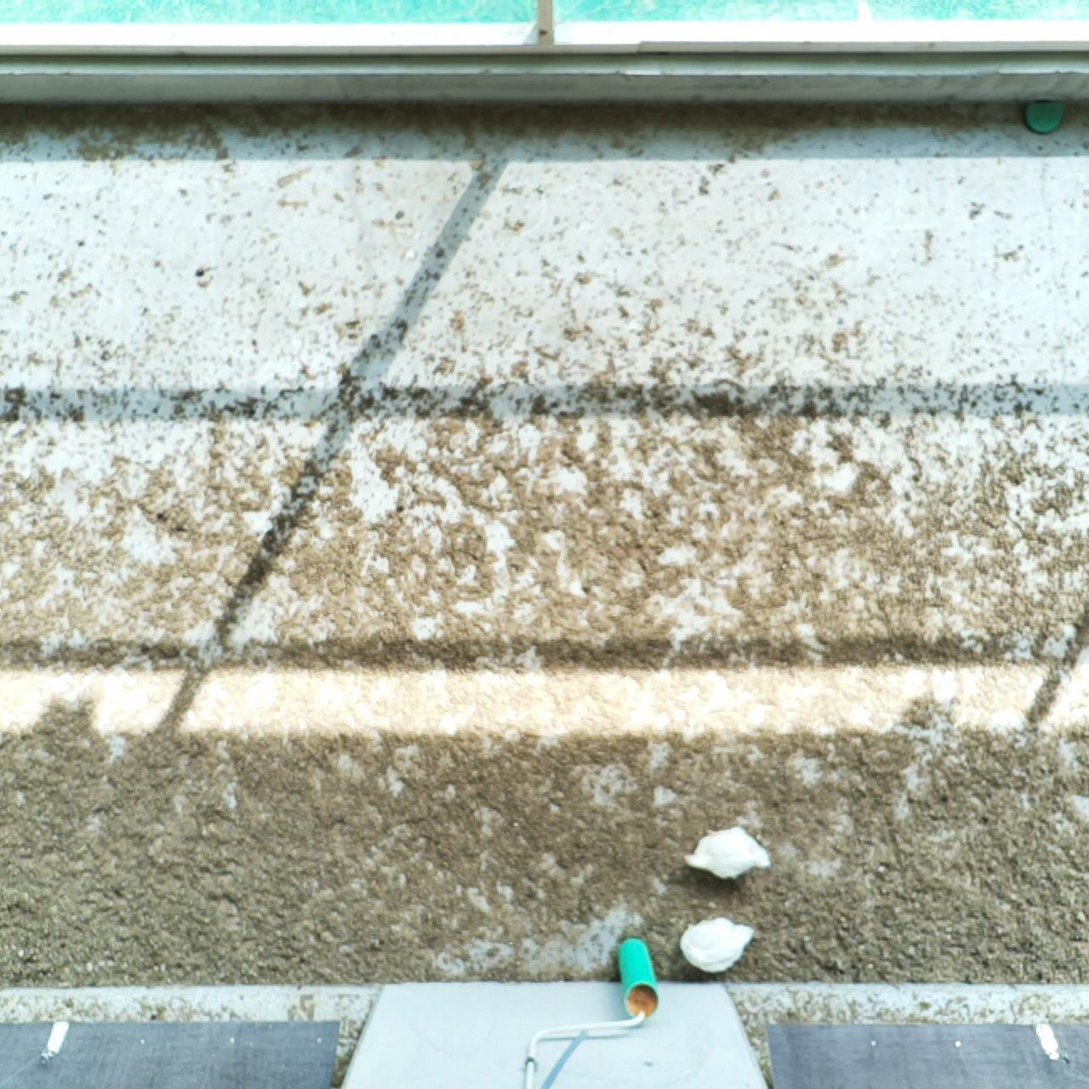chicken: (682, 820, 776, 892), (675, 910, 758, 977)
